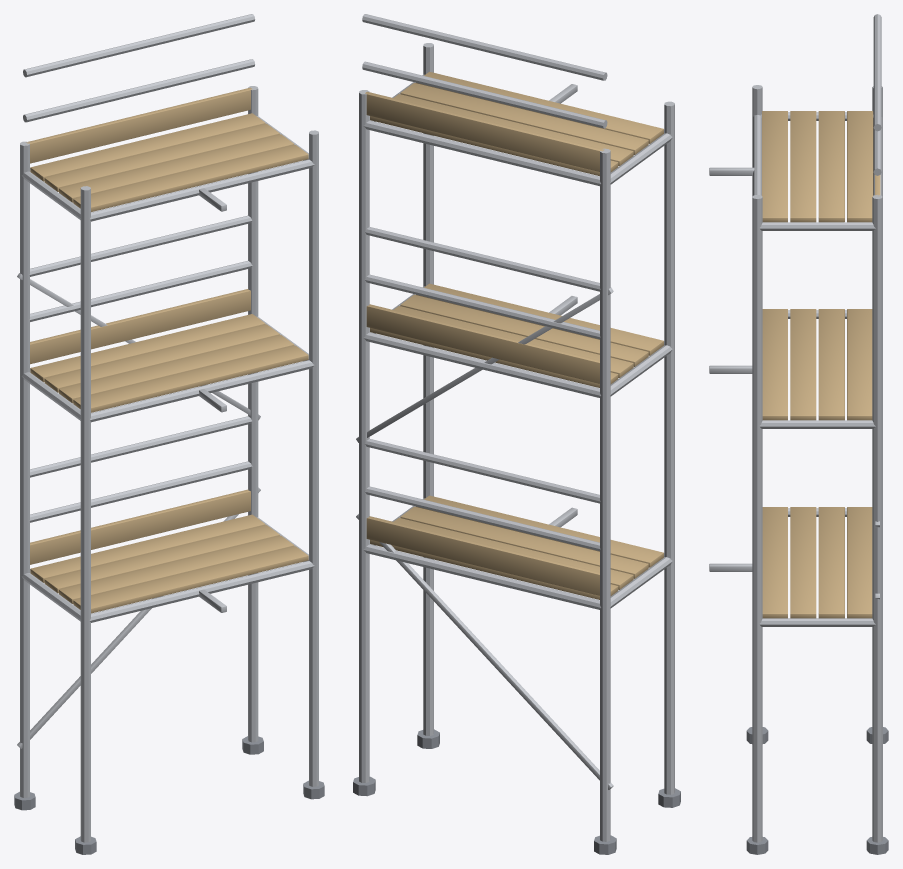
Rendered from th46_geruest.glb.
3 views of the same model, side by side, from view 1: azimuth 30°, elevation 25°; view 2: azimuth 150°, elevation 25°; view 3: azimuth 270°, elevation 25° (orthographic). The views are drawn at different scales.
Parts seen in each view (by area): view 1: Cylinder, Cylinder.002, Cylinder.004, Cube.014, Cube.004, Cube.009, Cylinder.006, Cube, Cube.005, Cube.010, Cube.012, Cube.013 (+21 smaller); view 2: Cylinder.004, Cylinder, Cylinder.006, Cube.014, Cube.004, Cube.009, Cylinder.002, Cube.011, Cube.001, Cube.006, Cylinder.021, Cylinder.015 (+21 smaller); view 3: Cylinder.002, Cylinder.006, Cube.001, Cube.002, Cube.006, Cube.007, Cube.011, Cube.012, Cube.013, Cube, Cube.003, Cube.005 (+12 smaller).
Part boxes in pixels (x1,y1,x2,y2): Cylinder: (80,186,90,842); Cylinder.002: (309,130,318,786); Cylinder.004: (20,141,29,797); Cube.014: (26,87,252,163); Cube.004: (30,489,250,564); Cube.009: (30,289,250,364); Cylinder.006: (248,86,258,742); Cube: (73,546,308,613); Cube.005: (73,345,308,412); Cube.010: (73,145,308,211); Cube.012: (44,123,279,191); Cube.013: (30,113,265,181); Cylinder.004: (600,148,610,841); Cylinder: (664,101,674,794); Cylinder.006: (359,90,369,782); Cube.014: (365,91,604,171); Cube.004: (366,516,599,595); Cube.009: (366,304,599,383); Cylinder.002: (423,43,433,735); Cube.011: (400,83,648,154); Cube.001: (400,506,648,578); Cube.006: (400,294,648,366); Cylinder.021: (363,120,600,186); Cylinder.015: (364,332,600,397); Cylinder.002: (752,194,762,842); Cylinder.006: (872,194,882,842); Cube.001: (790,507,816,618); Cube.002: (818,507,844,618); Cube.006: (790,309,816,420); Cube.007: (818,309,844,420); Cube.011: (790,111,816,222); Cube.012: (818,111,844,222); Cube.013: (847,111,873,222); Cube: (762,507,787,618); Cube.003: (847,507,872,618); Cube.005: (762,309,787,420).
Bounding box in the file's own units: 2.58 × 7.34 × 1.64.
